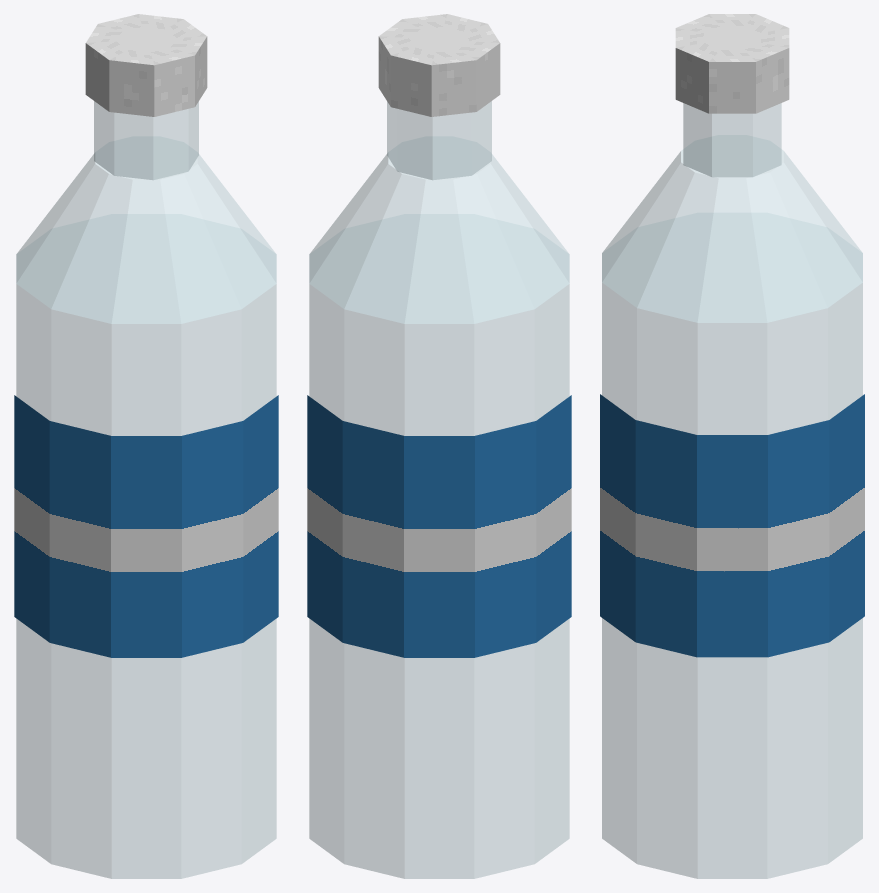
The model's file is bottle_plastic.glb.
The picture shows the model from 3 angles, left to right: view 1: azimuth 30°, elevation 25°; view 2: azimuth 150°, elevation 25°; view 3: azimuth 270°, elevation 25°; orthographic projection.
Visible parts, largest first — view 1: block_body, block_label, block_shoulder, block_cap, block_neck; view 2: block_body, block_label, block_shoulder, block_cap, block_neck; view 3: block_body, block_label, block_shoulder, block_cap, block_neck.
Boxes of the visible parts, x1,y1,x2,y2 form: block_body: [16, 214, 276, 878]; block_label: [14, 395, 278, 657]; block_shoulder: [16, 136, 276, 323]; block_cap: [85, 14, 207, 116]; block_neck: [94, 101, 198, 180]; block_body: [309, 214, 569, 878]; block_label: [307, 395, 571, 657]; block_shoulder: [309, 136, 569, 323]; block_cap: [378, 14, 500, 116]; block_neck: [387, 101, 491, 180]; block_body: [602, 213, 862, 878]; block_label: [600, 394, 864, 657]; block_shoulder: [602, 135, 862, 322]; block_cap: [675, 14, 789, 113]; block_neck: [683, 103, 781, 177].
Bounding box in the file's own units: 0.0647 × 0.212 × 0.0647.
2 materials, 2 textured.
